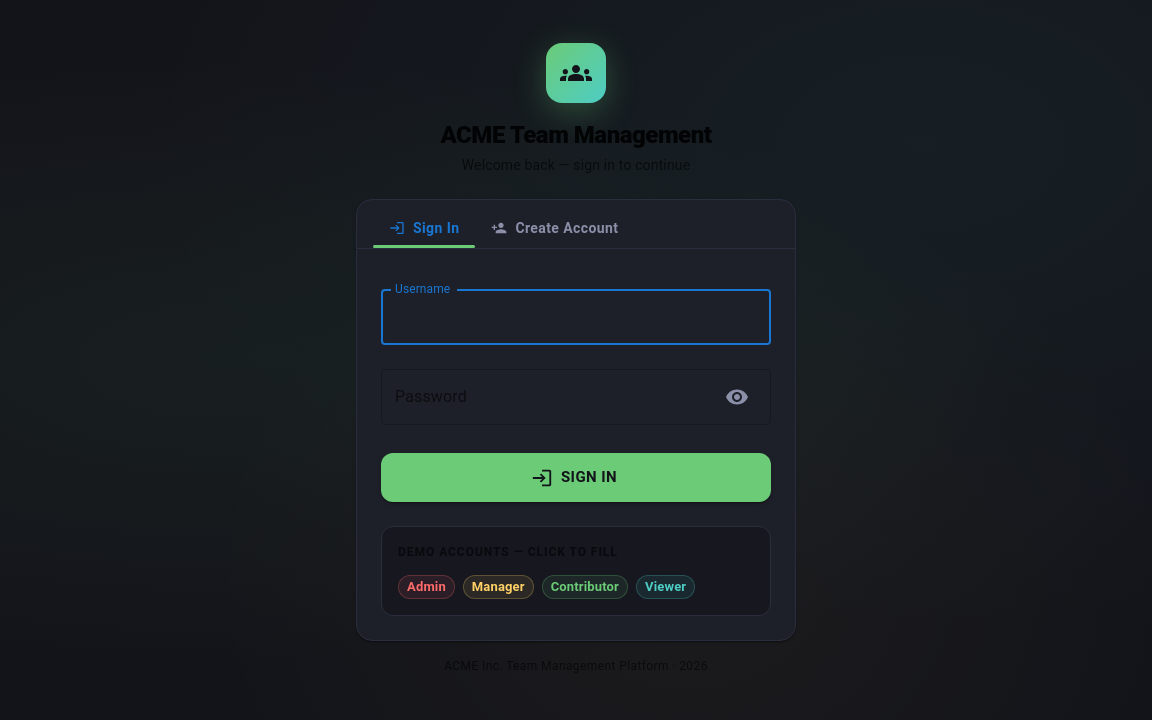
LoginPage › shows API error on failed login
In the field labelled "Username": [576, 317] box [381,289,771,345], type "admin"
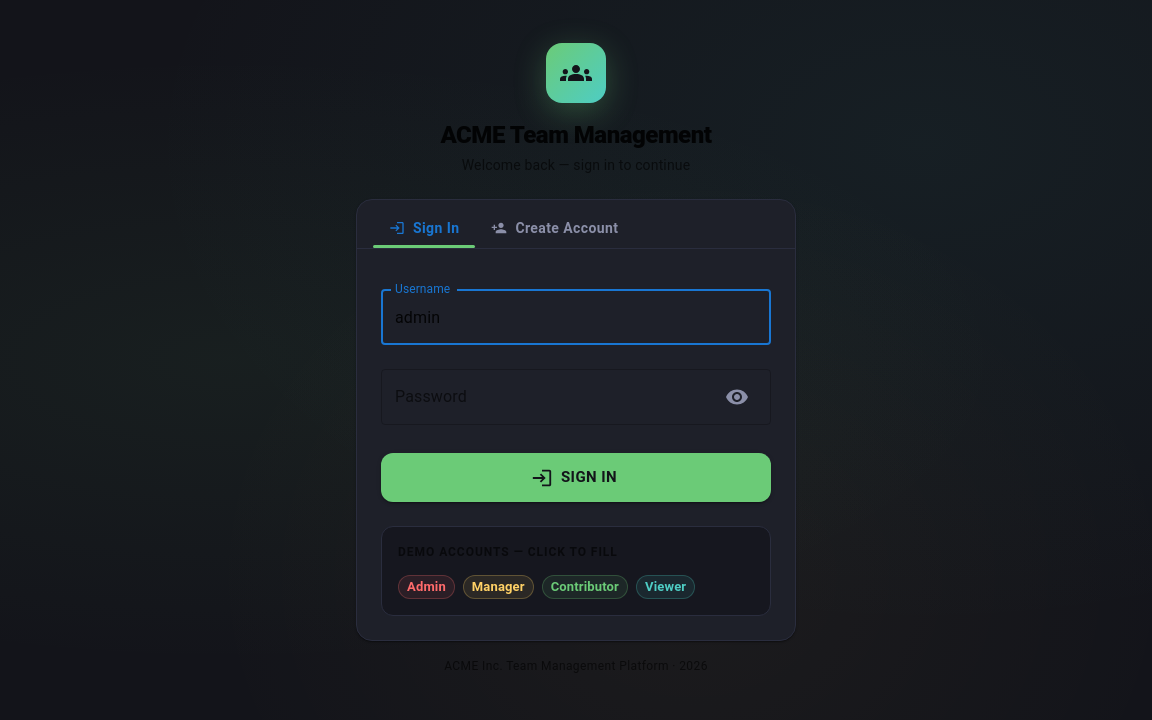
In the password field labelled "Password": [545, 397] box [381,369,709,425], type "wrong"
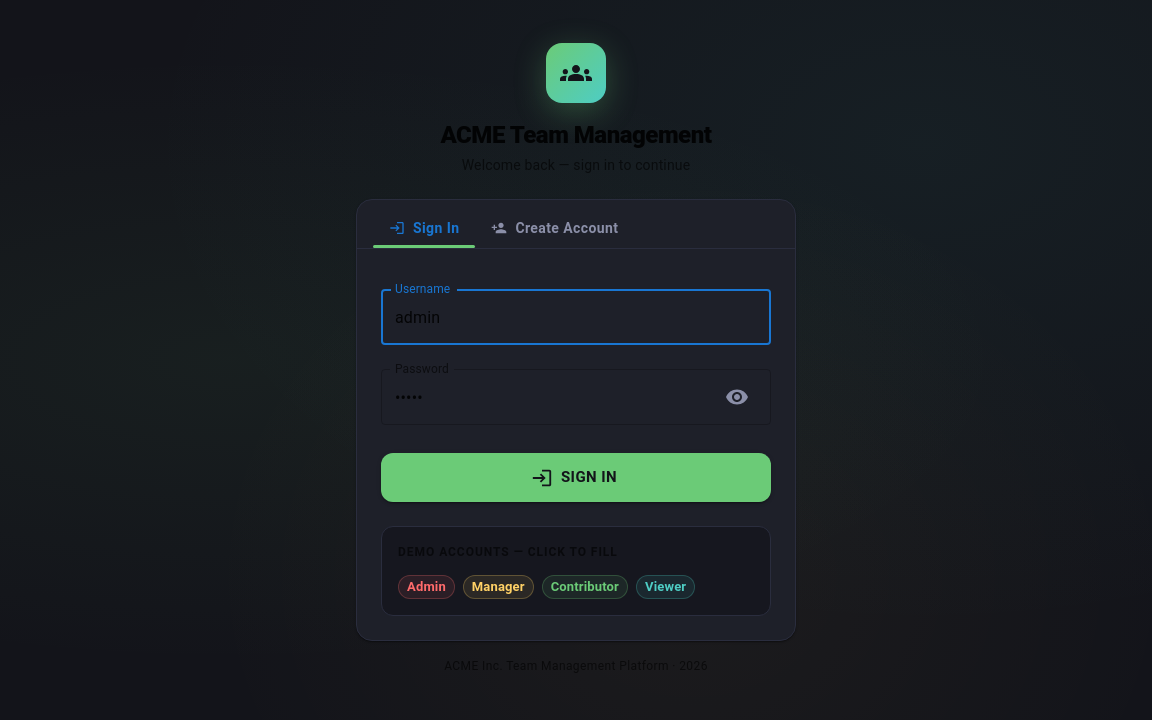
Click the button "Sign In": [576, 478] box [381,453,771,502]
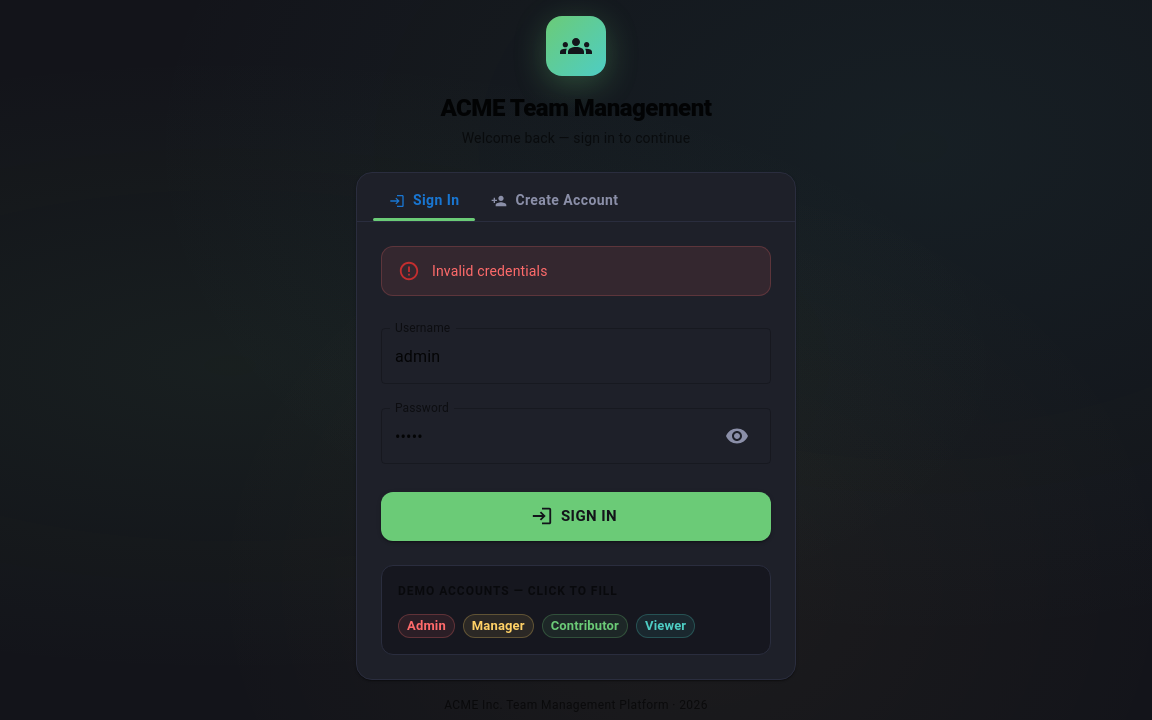
Now the text "Invalid credentials" is shown, box [432,263,548,279]
